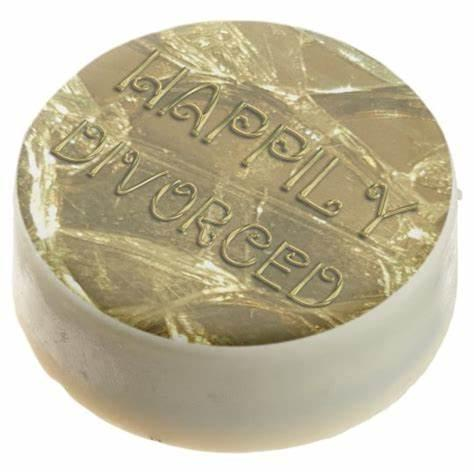metal: (15, 21, 459, 452)
